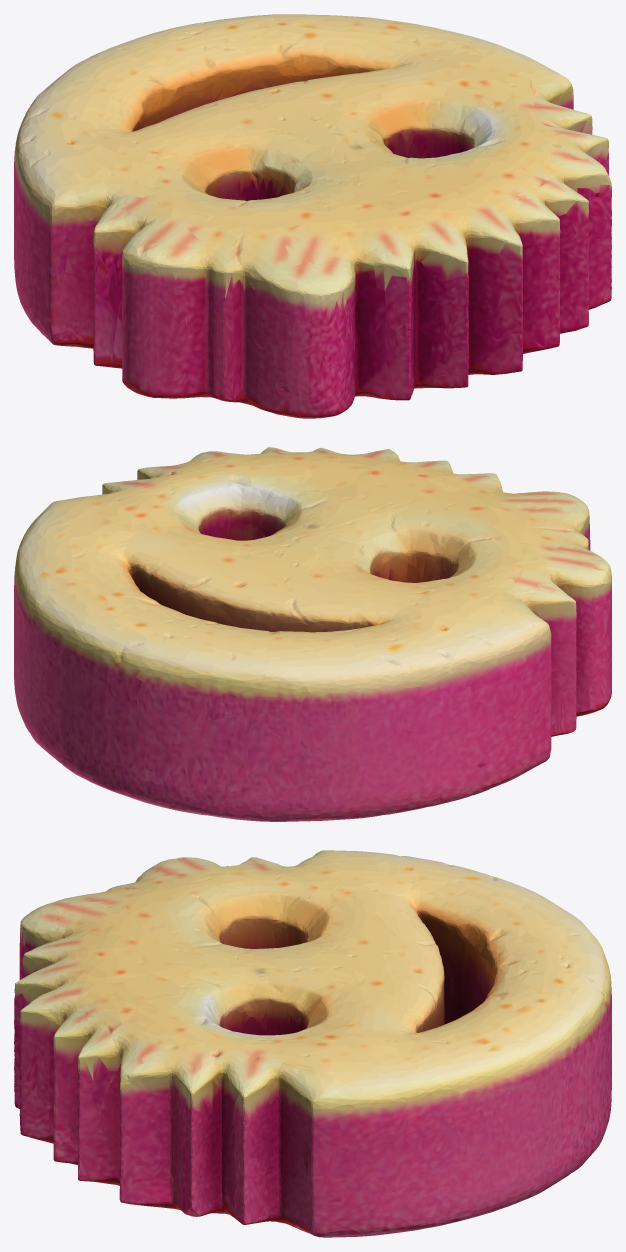
File: sponge_visual.obj
3 renders of one model, top to bottom at view 1: azimuth 30°, elevation 25°; view 2: azimuth 150°, elevation 25°; view 3: azimuth 270°, elevation 25°, orthographic. The views are drawn at different scales.
Size of the model in its own units: 0.0951 by 0.0299 by 0.096.
Materials: 1 (1 with a texture image).
